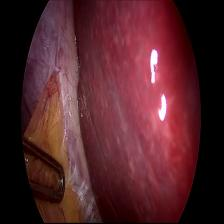Grasper: (24, 133, 70, 206)
